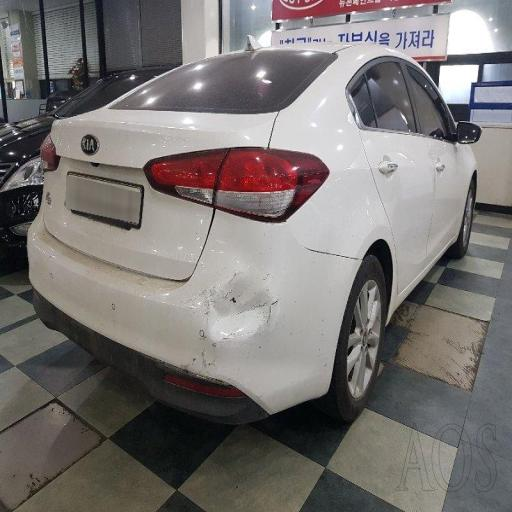dent: (178, 232, 295, 374)
